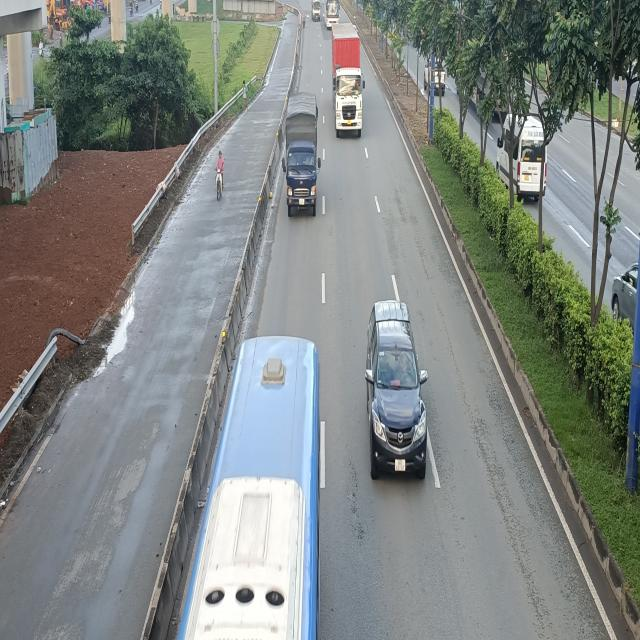car: (367, 300, 430, 474)
coach: (174, 330, 326, 636)
container: (333, 25, 365, 138)
truck: (280, 94, 318, 218)
